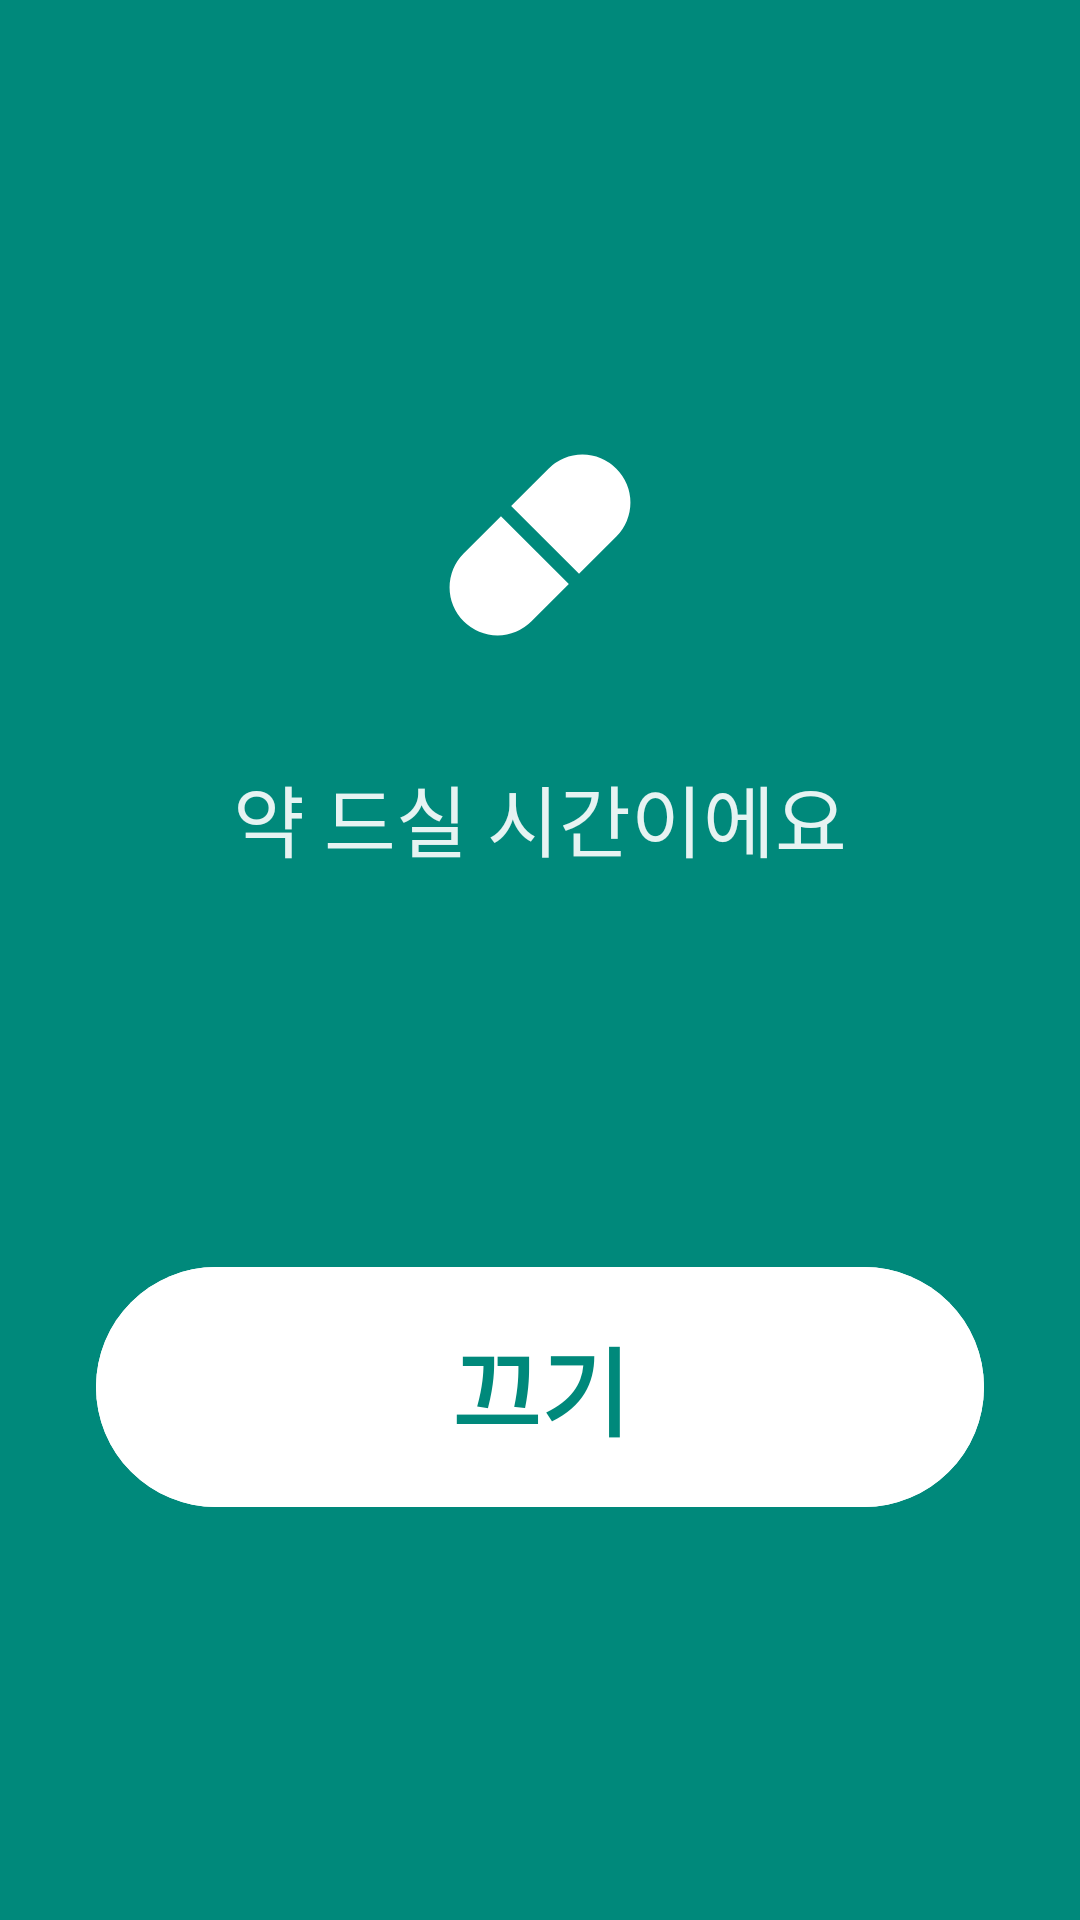

Screen size 1080x1920. Icon name, then its box in pixels as [x1,y1,x2,y2]:
pill: [449,454,631,636]
